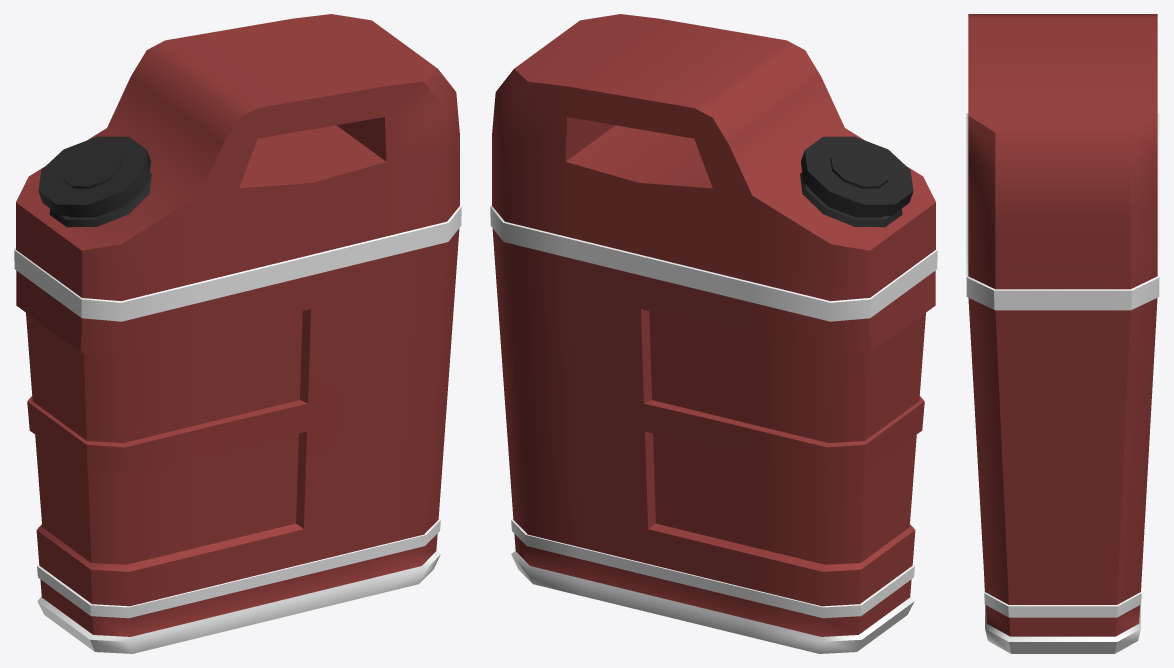
The model's file is gascan.glb.
3 renders of one model, left to right at view 1: azimuth 30°, elevation 25°; view 2: azimuth 150°, elevation 25°; view 3: azimuth 270°, elevation 25°, orthographic. The views are drawn at different scales.
Parts seen in each view (by area): view 1: GasCan; view 2: GasCan; view 3: GasCan.
Boxes of the visible parts, x1,y1,x2,y2 form: GasCan: [14, 14, 461, 653]; GasCan: [490, 14, 937, 653]; GasCan: [966, 14, 1159, 653].
Bounding box in the file's own units: 0.7967 × 1.05 × 0.3414.
